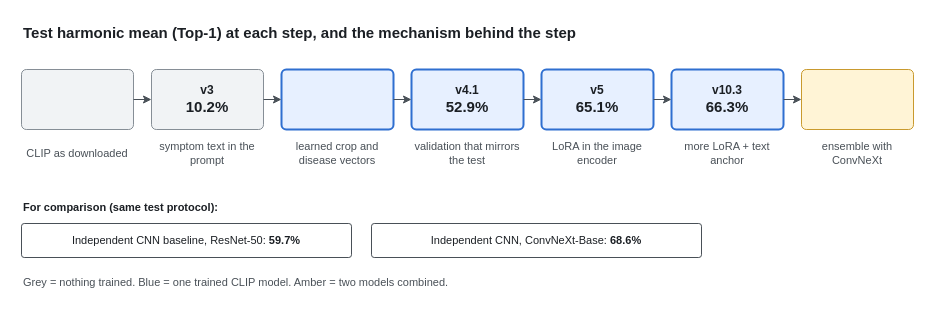
Some shapes in this 938 by 310 pixel diagram are drawn without their labels. Here are the shapes that lost their labels. From the top down, the box of each, then its label:
(20, 68, 134, 130): v1 5.4%
(280, 68, 394, 130): v4 43.6%
(800, 68, 914, 130): v6.3 75.0%
